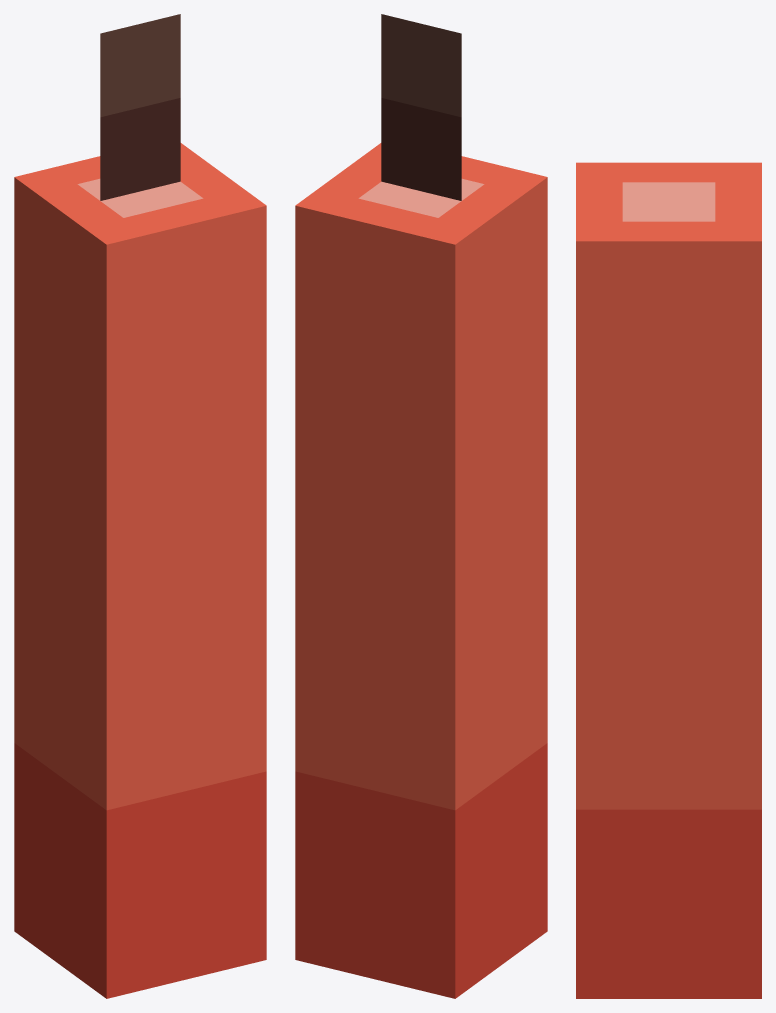
File: dynamite1.fbx
The picture shows the model from 3 angles, left to right: view 1: azimuth 30°, elevation 25°; view 2: azimuth 150°, elevation 25°; view 3: azimuth 270°, elevation 25°; orthographic projection.
Parts seen in each view (by area): view 1: stick, fuse; view 2: stick, fuse; view 3: stick.
Boxes of the visible parts, box(x1,y1,x2,y2) form: stick: box(14, 143, 266, 998); fuse: box(100, 14, 180, 200); stick: box(295, 143, 547, 998); fuse: box(381, 14, 461, 200); stick: box(576, 162, 761, 998).
Bounding box in the file's own units: 12.5 × 68.75 × 12.5.
Materials: 1 (1 with a texture image).
